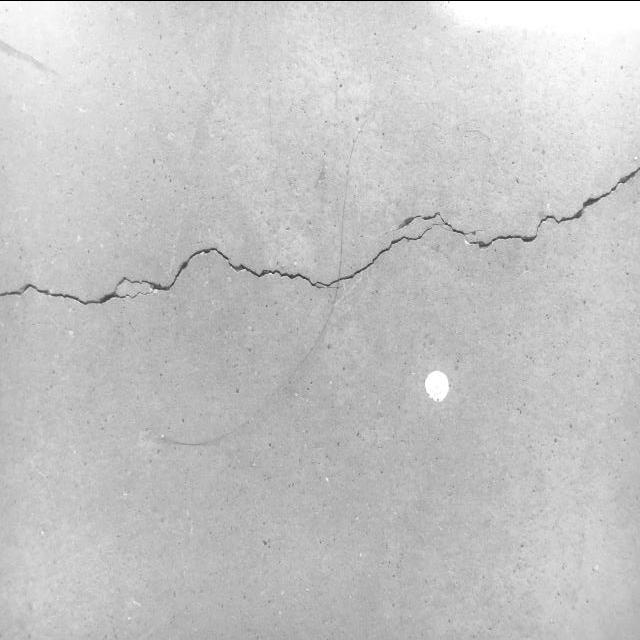SurfaceCrack: (1, 157, 640, 341)
